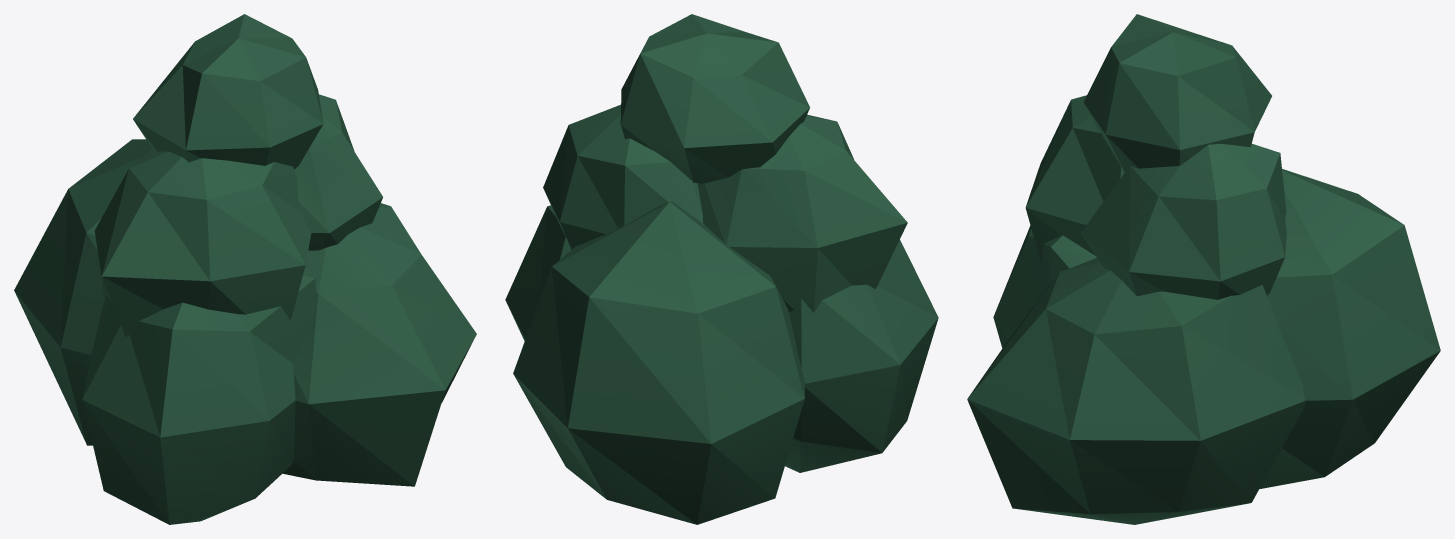
File: holly_0.glb
3 renders of one model, left to right at view 1: azimuth 30°, elevation 25°; view 2: azimuth 150°, elevation 25°; view 3: azimuth 270°, elevation 25°, orthographic. The views are drawn at different scales.
Visible parts, largest first — view 1: holly_0; view 2: holly_0; view 3: holly_0.
Part boxes in pixels (x1,y1,x2,y2): holly_0: [14, 14, 476, 524]; holly_0: [505, 14, 938, 524]; holly_0: [967, 14, 1440, 524].
Bounding box in the file's own units: 1.23 × 1.44 × 1.35.
